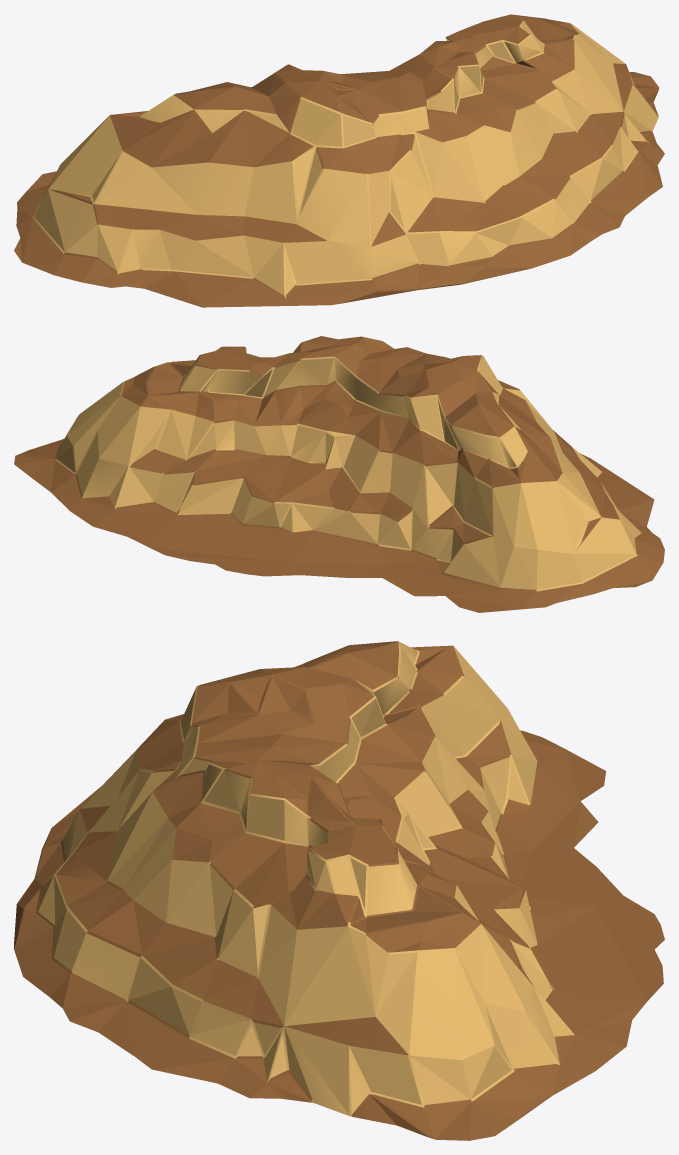
Rendered from BigRock1.fbx.
3 views of the same model, one above another, from view 1: azimuth 30°, elevation 25°; view 2: azimuth 150°, elevation 25°; view 3: azimuth 270°, elevation 25° (orthographic). The views are drawn at different scales.
Parts seen in each view (by area): view 1: Bigrock1; view 2: Bigrock1; view 3: Bigrock1.
Part boxes in pixels (x1,y1,x2,y2): Bigrock1: (14,14,664,307); Bigrock1: (14,336,664,612); Bigrock1: (14,641,664,1140).
Size of the model in its own units: 35.73 by 22.48 by 7.67.
